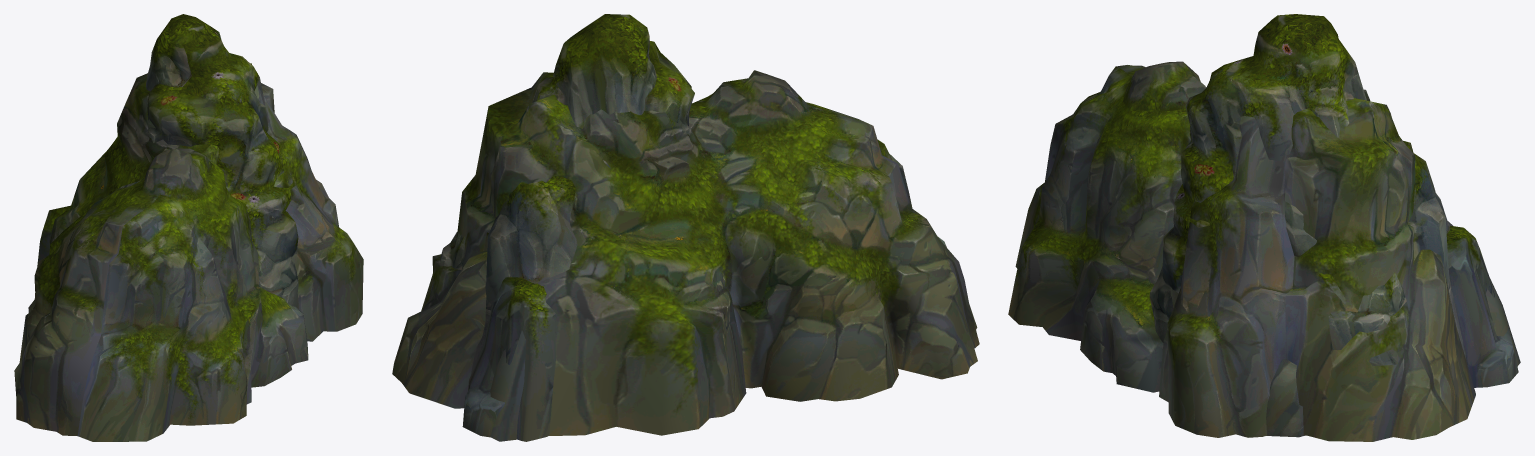
Rendered from shan.FBX.
3 renders of one model, left to right at view 1: azimuth 30°, elevation 25°; view 2: azimuth 150°, elevation 25°; view 3: azimuth 270°, elevation 25°, orthographic. The views are drawn at different scales.
Visible parts, largest first — view 1: jsy_thing_misc025, jsy_thing_misc072; view 2: jsy_thing_misc025, jsy_thing_misc072; view 3: jsy_thing_misc025, jsy_thing_misc072.
Boxes of the visible parts, left/top/right/bottom form: jsy_thing_misc025: left=14, top=63, right=363, bottom=441; jsy_thing_misc072: left=146, top=14, right=298, bottom=308; jsy_thing_misc025: left=392, top=70, right=979, bottom=441; jsy_thing_misc072: left=429, top=14, right=694, bottom=441; jsy_thing_misc025: left=1008, top=61, right=1520, bottom=441; jsy_thing_misc072: left=1149, top=14, right=1518, bottom=437.
Bounding box in the file's own units: 20.5 × 15.11 × 20.35.
